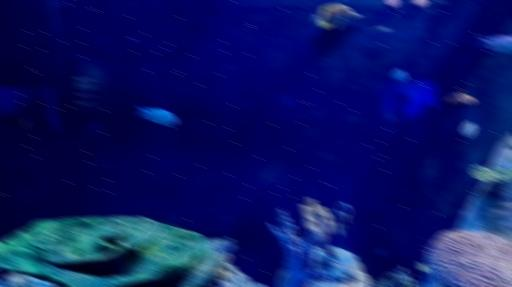Fish: (314, 3, 359, 29), (137, 107, 176, 125), (476, 35, 511, 52), (333, 201, 350, 235), (418, 262, 437, 286), (445, 92, 474, 104), (460, 121, 477, 137), (392, 68, 405, 80)
